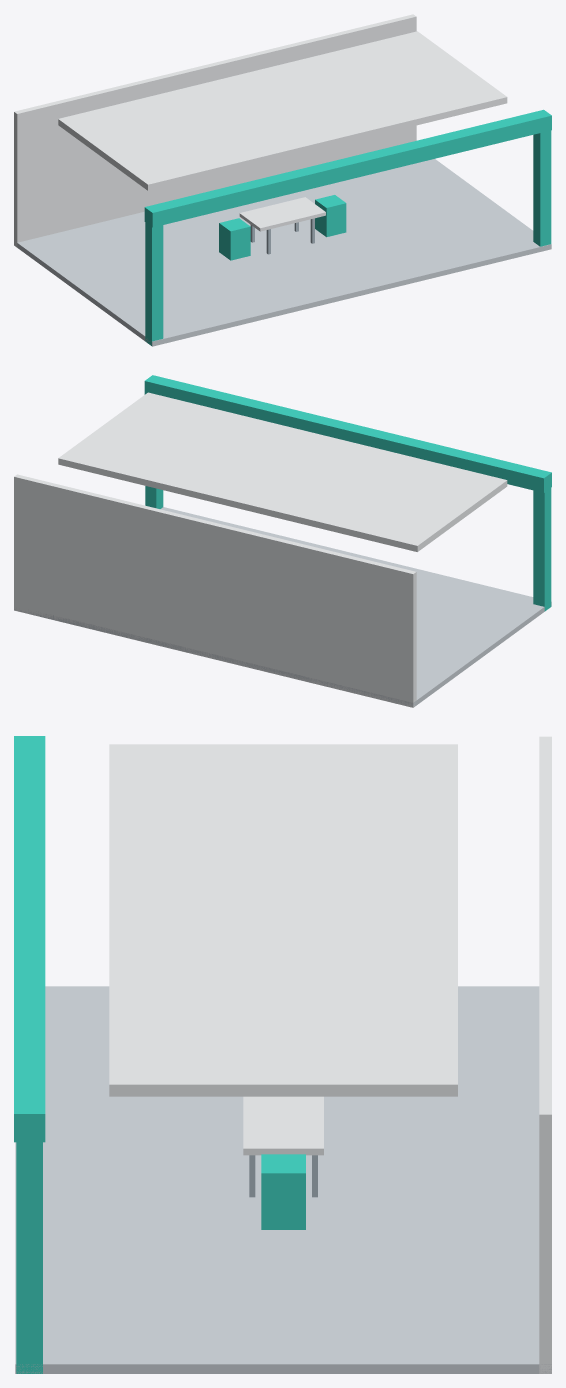
3 renders of one model, top to bottom at view 1: azimuth 30°, elevation 25°; view 2: azimuth 150°, elevation 25°; view 3: azimuth 270°, elevation 25°, orthographic. The views are drawn at different scales.
Parts seen in each view (by area): view 1: Exhibition Booth Concept; view 2: Exhibition Booth Concept; view 3: Exhibition Booth Concept.
Boxes of the visible parts, x1,y1,x2,y2 form: Exhibition Booth Concept: (14, 14, 551, 346); Exhibition Booth Concept: (14, 375, 551, 707); Exhibition Booth Concept: (14, 736, 551, 1373).
Size of the model in its own units: 10 by 3.34 by 6.02.
